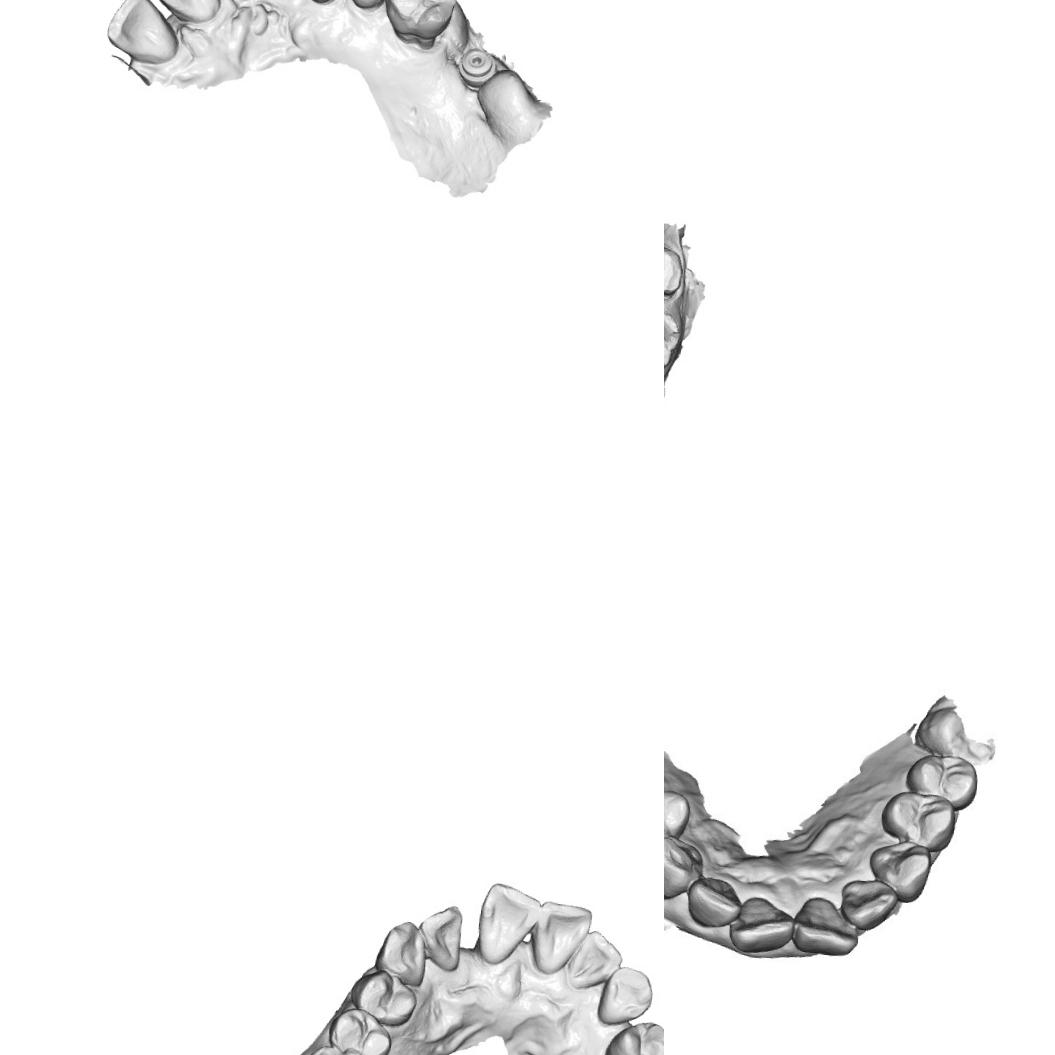canine: (865, 838, 934, 904), (595, 963, 656, 1031), (371, 918, 430, 988), (664, 832, 706, 902)
crown: (664, 239, 688, 304)
implant: (452, 44, 498, 82)
incisor: (472, 880, 544, 969), (526, 897, 594, 978), (101, 0, 179, 64), (788, 892, 860, 961), (725, 890, 792, 957), (564, 926, 626, 994), (415, 901, 464, 973), (682, 876, 740, 934), (838, 876, 900, 930), (147, 0, 224, 24)
molar: (375, 0, 463, 53), (664, 297, 685, 374)
premolar: (876, 788, 958, 850), (900, 750, 984, 808), (346, 966, 421, 1030), (323, 1005, 394, 1055), (602, 1018, 664, 1055), (664, 787, 692, 854)
